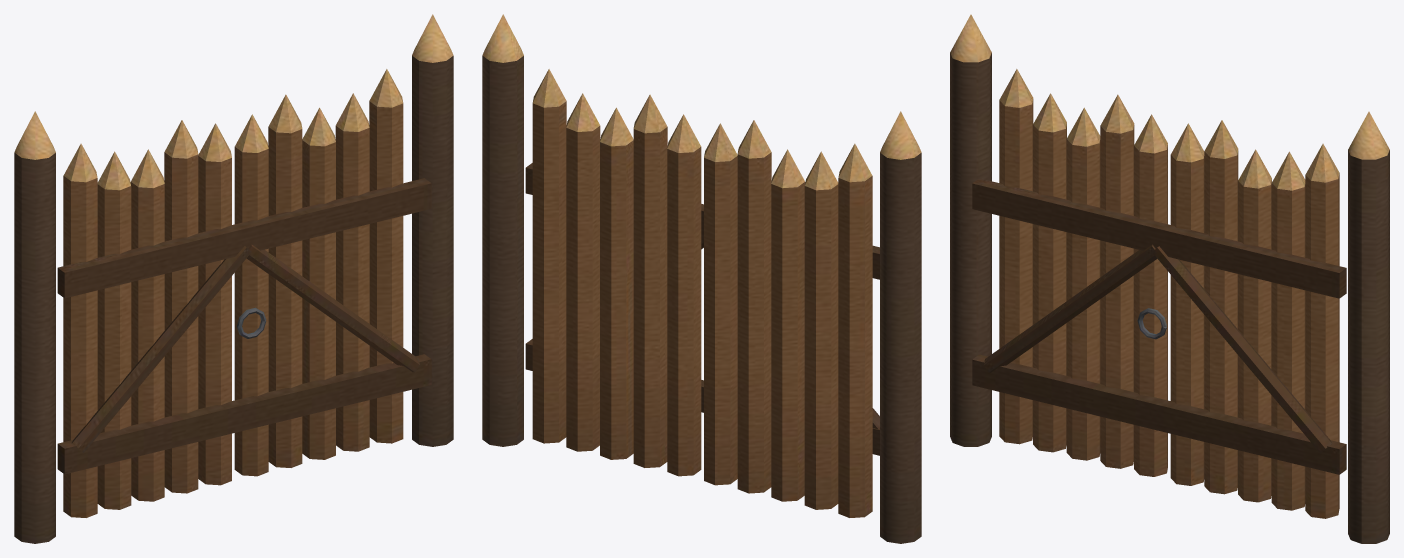
File: gate.glb
3 renders of one model, left to right at view 1: azimuth 30°, elevation 25°; view 2: azimuth 150°, elevation 25°; view 3: azimuth 330°, elevation 25°, orthographic.
Visible parts, largest first — view 1: gate; view 2: gate; view 3: gate.
Part boxes in pixels (left/top/right/bottom): gate: left=14, top=14, right=453, bottom=543; gate: left=482, top=14, right=921, bottom=543; gate: left=950, top=14, right=1389, bottom=543.
Bounding box in the file's own units: 2.83 × 2.65 × 0.3332.
5 materials, 5 textured.
